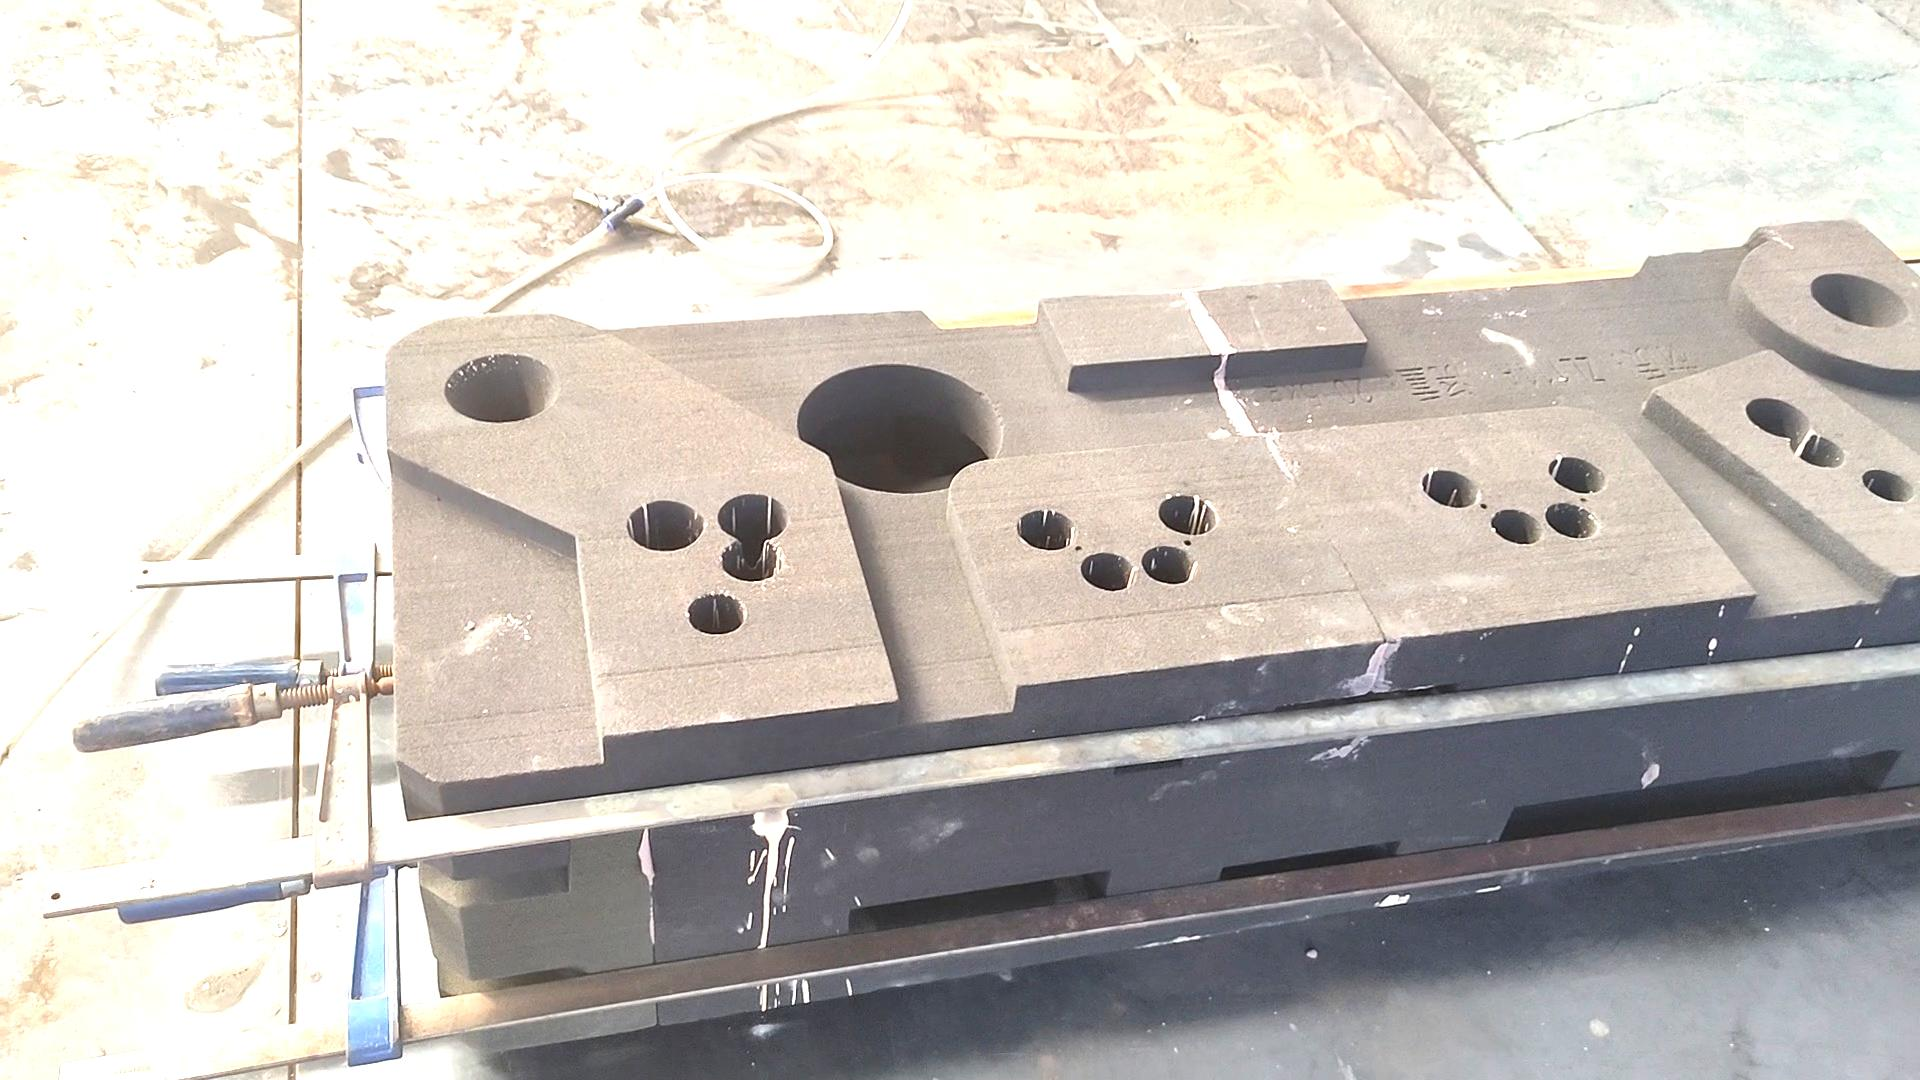pouring hole: (442, 353, 558, 425), (1809, 272, 1911, 328)
